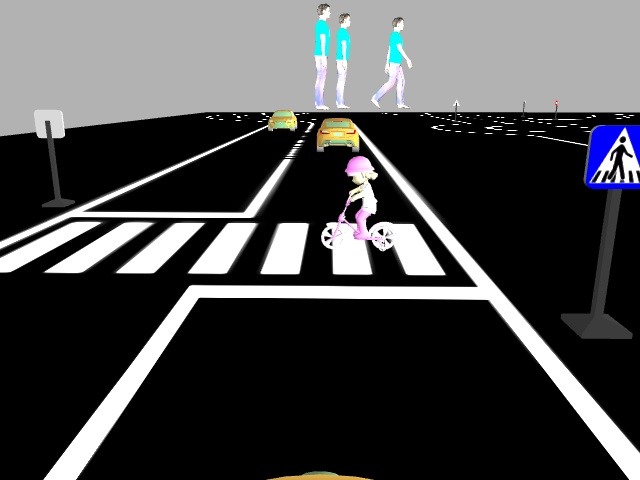Crosswalk: (584, 122, 635, 197)
Pedestrian: (315, 152, 401, 252)
